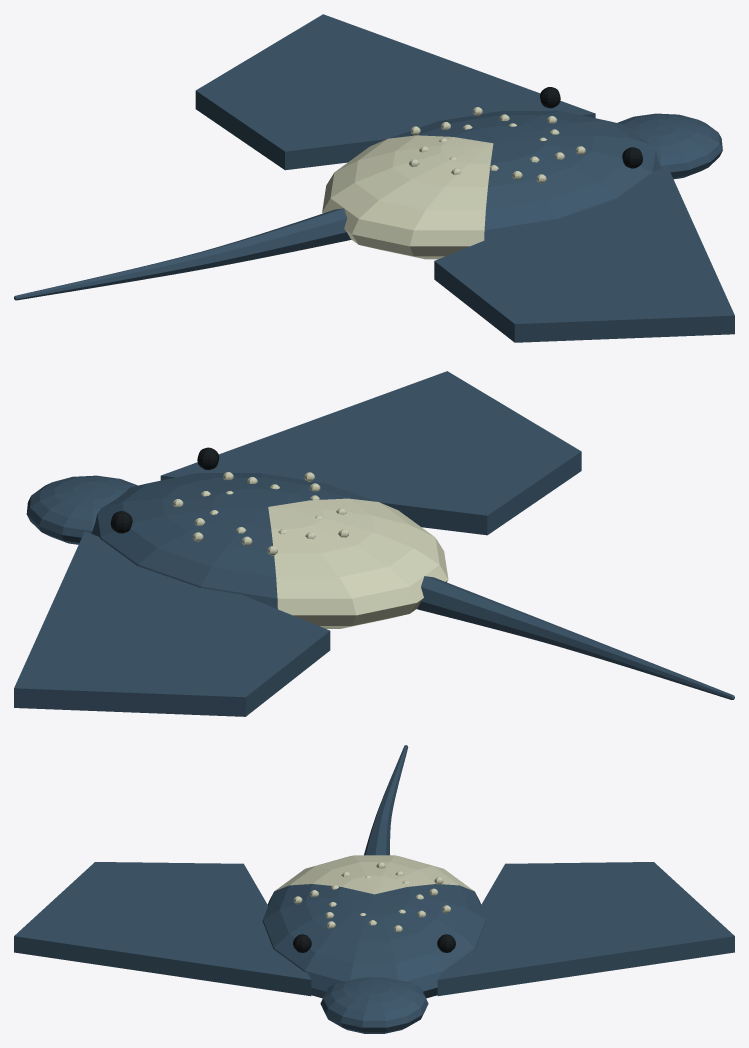
File: eagle-ray.dae
3 views of the same model, one above another, from view 1: azimuth 30°, elevation 25°; view 2: azimuth 150°, elevation 25°; view 3: azimuth 270°, elevation 25° (orthographic). The views are drawn at different scales.
Visible parts, largest first — view 1: part2-node, part1-node, part0-node; view 2: part2-node, part1-node, part0-node; view 3: part2-node, part1-node, part0-node.
Boxes of the visible parts, x1=… form: part2-node: x1=14, y1=14, x2=734, y2=342; part1-node: x1=322, y1=107, x2=585, y2=259; part0-node: x1=540, y1=87, x2=642, y2=168; part2-node: x1=14, y1=371, x2=734, y2=716; part1-node: x1=172, y1=472, x2=448, y2=628; part0-node: x1=110, y1=447, x2=219, y2=533; part2-node: x1=14, y1=745, x2=734, y2=1033; part1-node: x1=275, y1=855, x2=473, y2=932; part0-node: x1=293, y1=934, x2=455, y2=952.
Size of the model in its own units: 2.2 by 2.3 by 0.2629.
